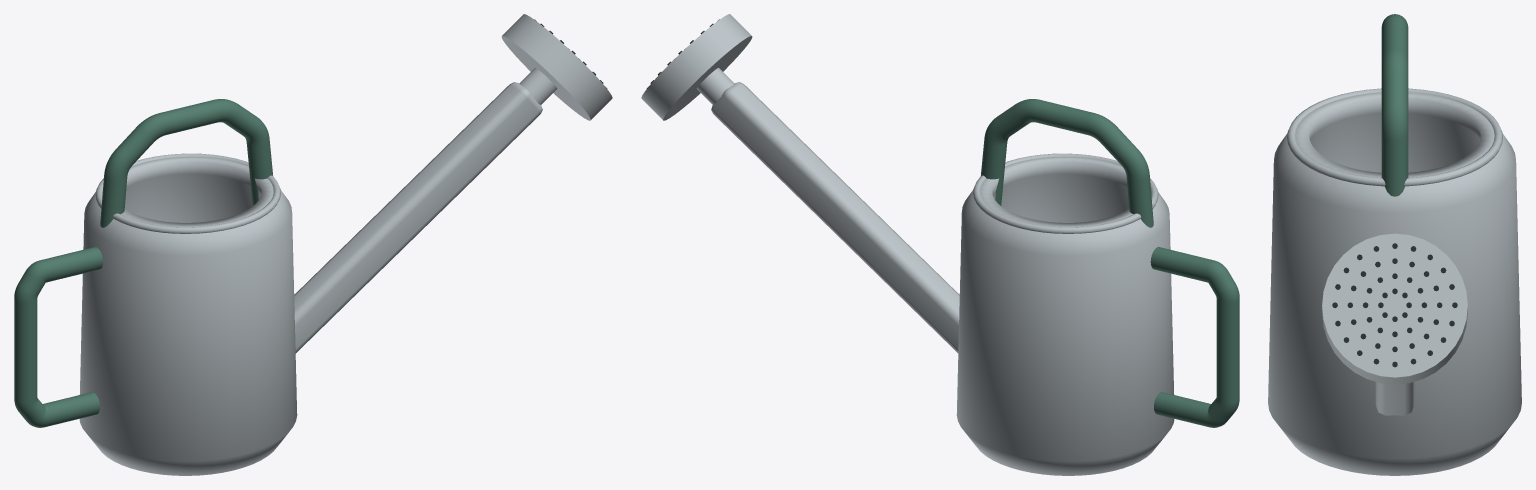
File: outdoor-watering-can.glb
3 renders of one model, left to right at view 1: azimuth 30°, elevation 25°; view 2: azimuth 150°, elevation 25°; view 3: azimuth 270°, elevation 25°, orthographic. The views are drawn at different scales.
Parts seen in each view (by area): view 1: catalog_surface_RealismUV; view 2: catalog_surface_RealismUV; view 3: catalog_surface_RealismUV, catalog_surface_UVMap.
Boxes of the visible parts, left/top/right/bottom form: catalog_surface_RealismUV: left=14, top=14, right=612, bottom=475; catalog_surface_RealismUV: left=641, top=14, right=1239, bottom=475; catalog_surface_RealismUV: left=1268, top=14, right=1521, bottom=475; catalog_surface_UVMap: left=1332, top=243, right=1457, bottom=367.
Bounding box in the file's own units: 0.7 × 0.38 × 0.22.
